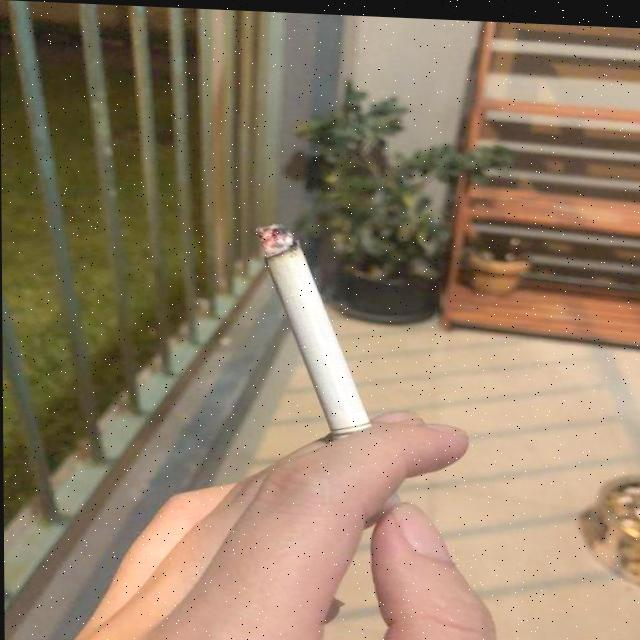cigarette: (254, 222, 398, 526)
